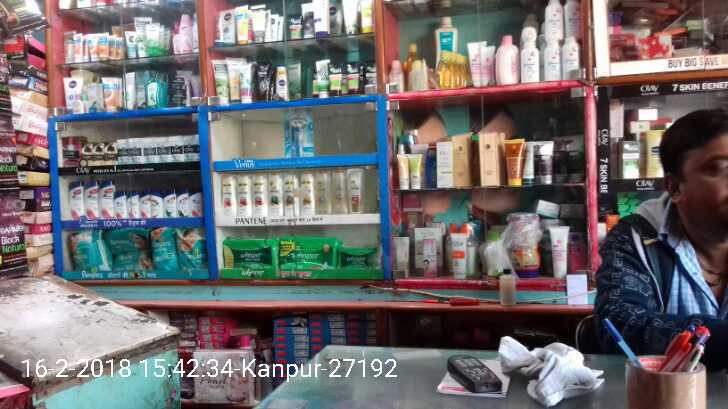venus: (283, 108, 314, 157)
